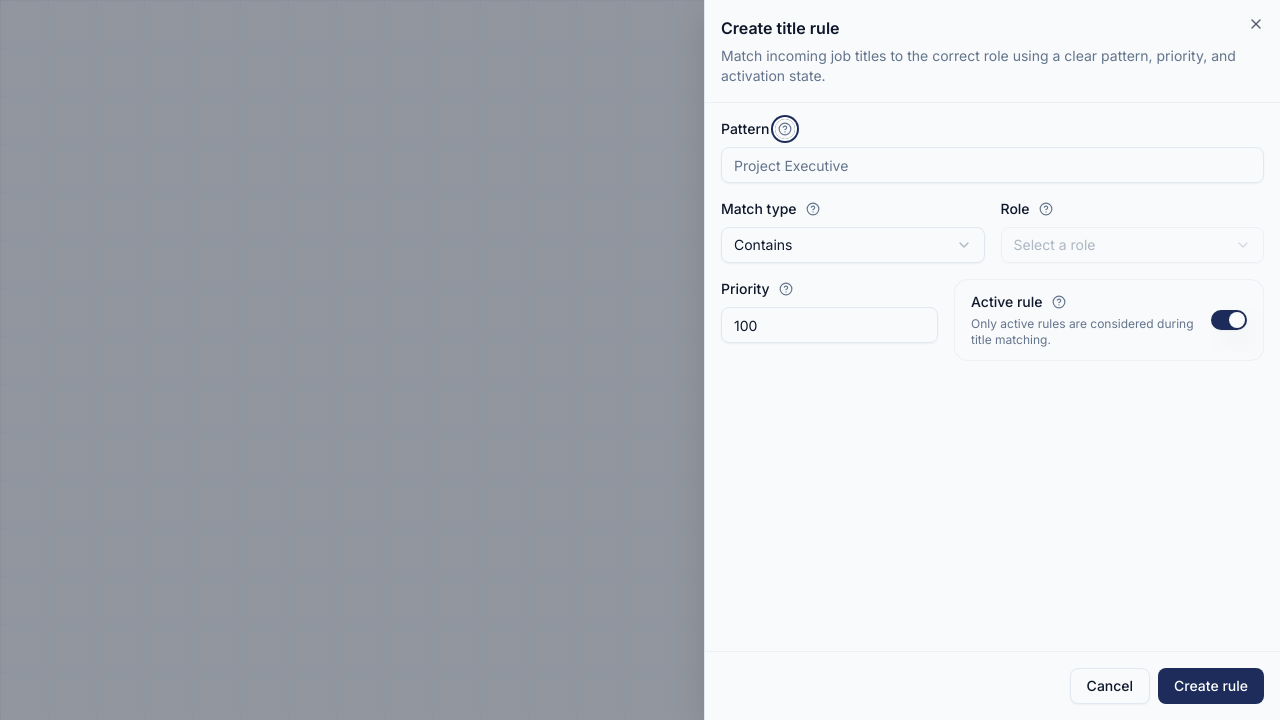
Test: TitleRuleEditor › blocks submission when a rule has no selected role
Step 1. Type "Coordinator" into the field labelled "Pattern" → x=992, y=165, box top-left (721, 147), bottom-right (1264, 183)
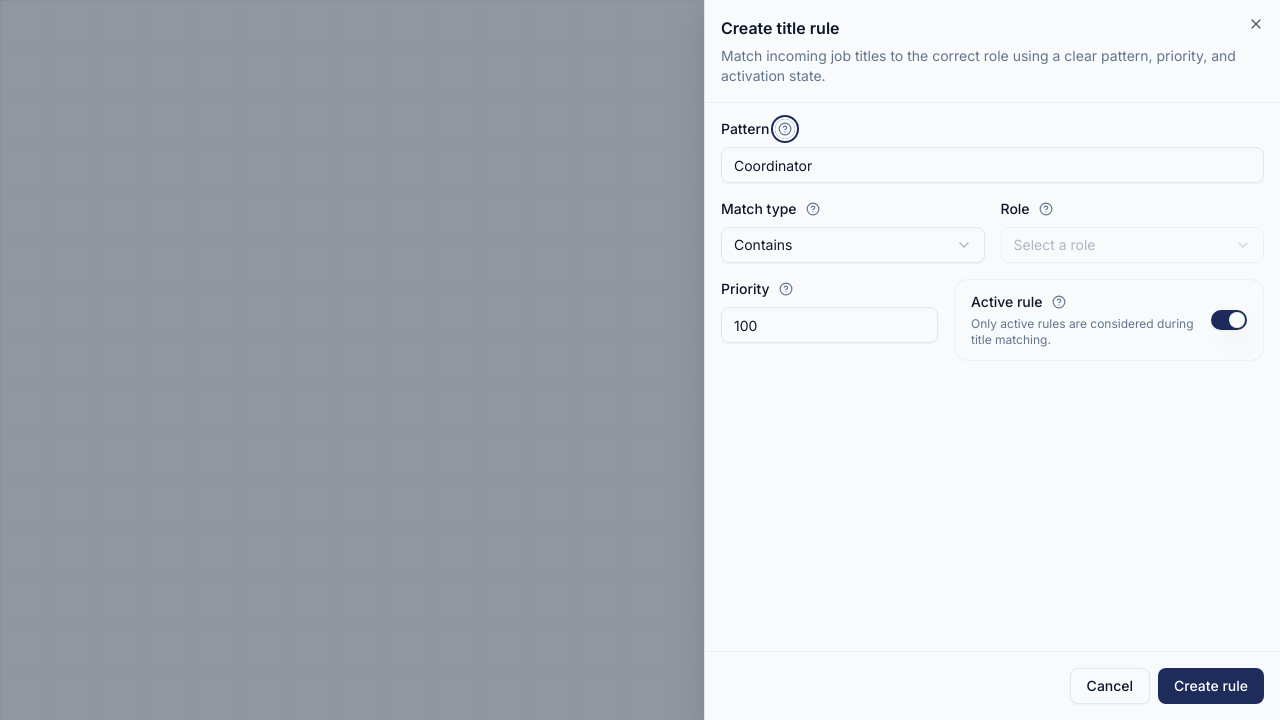
Step 2. Click the button "Create rule" → x=1211, y=686, box top-left (1158, 668), bottom-right (1264, 704)
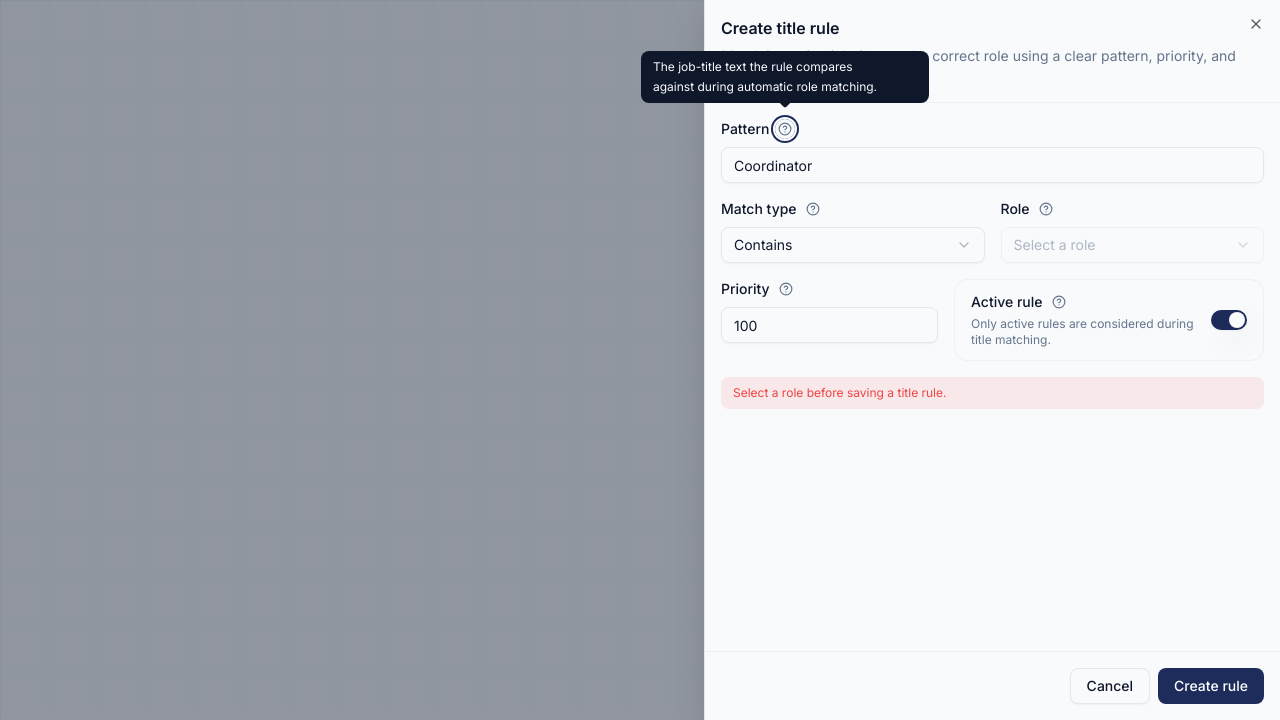
expect the text "Select a role before saving a title rule." is shown: met, box top-left (721, 377), bottom-right (1264, 409)
